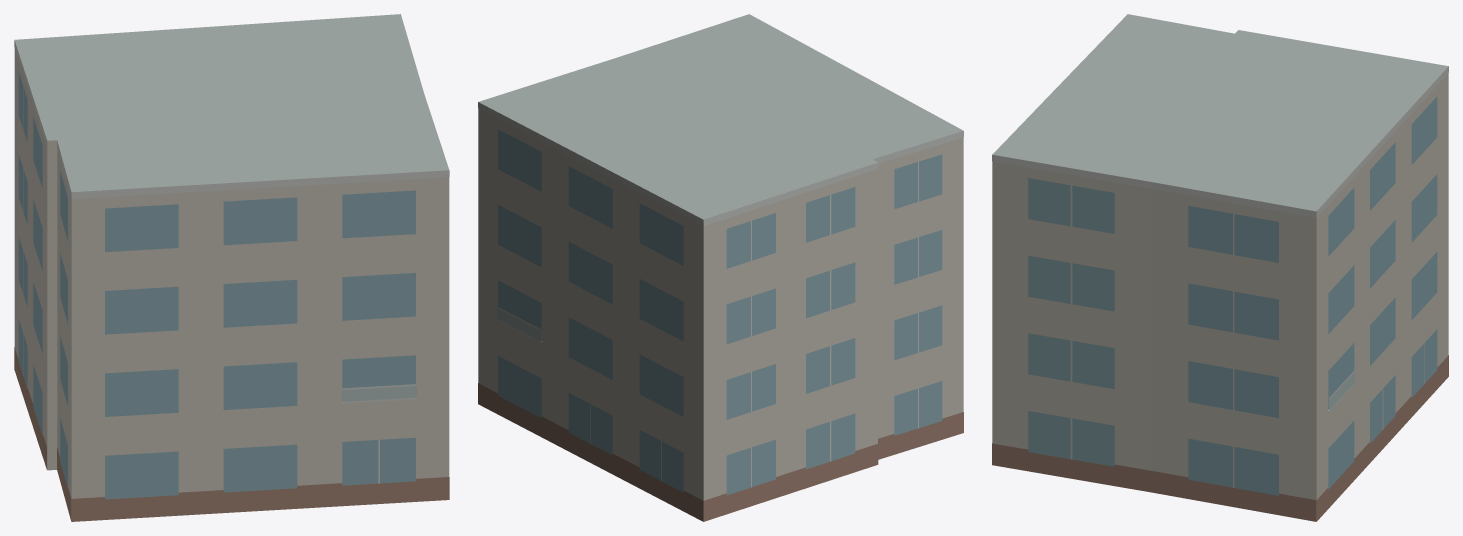
Rendered from survey-upis-32725396.glb.
3 views of the same model, side by side, from view 1: azimuth 30°, elevation 25°; view 2: azimuth 150°, elevation 25°; view 3: azimuth 270°, elevation 25° (orthographic). The views are drawn at different scales.
Visible parts, largest first — view 1: survey-upis-32725396.tmp; view 2: survey-upis-32725396.tmp; view 3: survey-upis-32725396.tmp.
Boxes of the visible parts, x1,y1,x2,y2 form: survey-upis-32725396.tmp: (14,14,449,521); survey-upis-32725396.tmp: (478,14,963,521); survey-upis-32725396.tmp: (992,14,1448,521).
Bounding box in the file's own units: 15.69 × 11.5 × 15.34.
